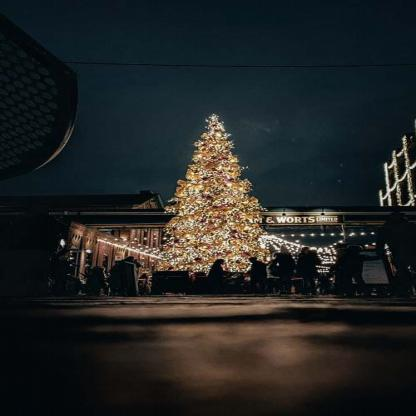x_mas tree: (148, 82, 296, 284)
